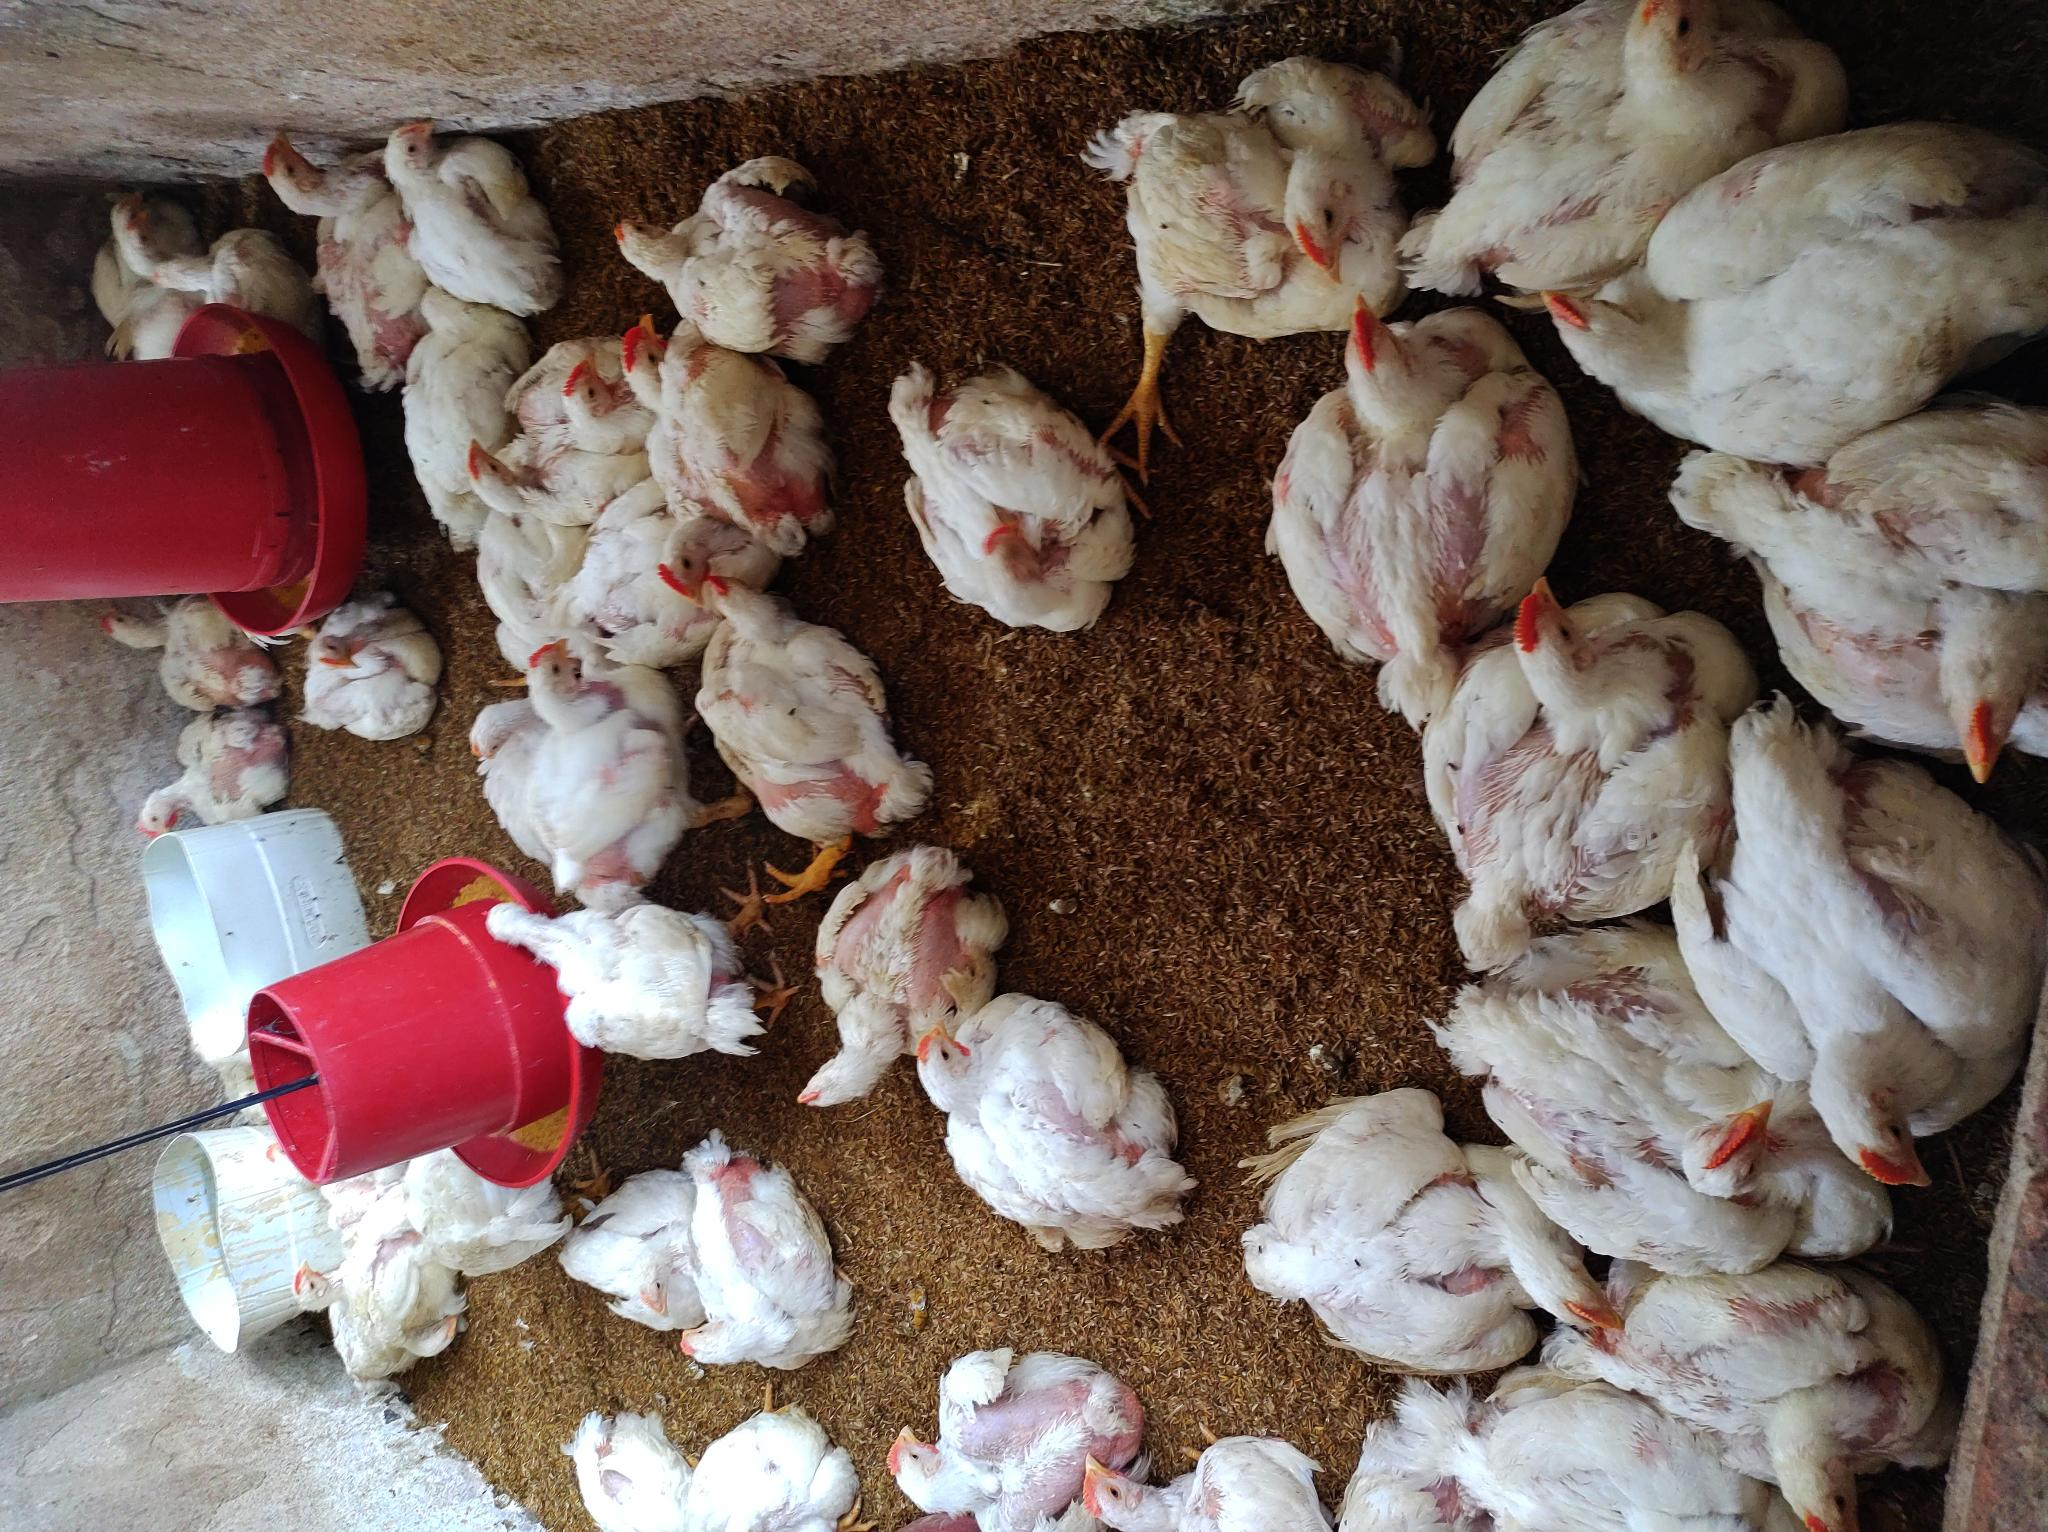Pollos: (1535, 114, 2048, 476), (1699, 690, 2048, 1191), (1462, 920, 1877, 1268), (1668, 410, 2048, 789), (1416, 0, 1832, 306), (1266, 286, 1569, 689), (1232, 1077, 1641, 1357), (1585, 1234, 1956, 1532), (1435, 578, 1742, 920), (1125, 53, 1424, 348), (883, 349, 1152, 652), (903, 988, 1202, 1252), (693, 563, 928, 858), (610, 148, 883, 360), (785, 851, 993, 1122), (475, 893, 767, 1065), (880, 1340, 1136, 1532), (256, 122, 434, 386), (668, 1133, 857, 1374), (523, 632, 689, 896), (656, 356, 833, 599), (553, 467, 775, 652), (378, 114, 561, 315), (470, 433, 656, 624), (399, 286, 529, 554), (1059, 1421, 1339, 1532), (293, 1229, 463, 1395), (674, 1394, 866, 1532), (552, 1159, 703, 1329), (293, 591, 439, 752), (401, 1147, 581, 1270), (92, 595, 290, 706), (119, 209, 306, 327), (134, 703, 286, 846), (82, 196, 208, 360), (462, 674, 565, 867), (545, 1406, 692, 1532), (510, 356, 655, 439), (615, 291, 674, 426)
